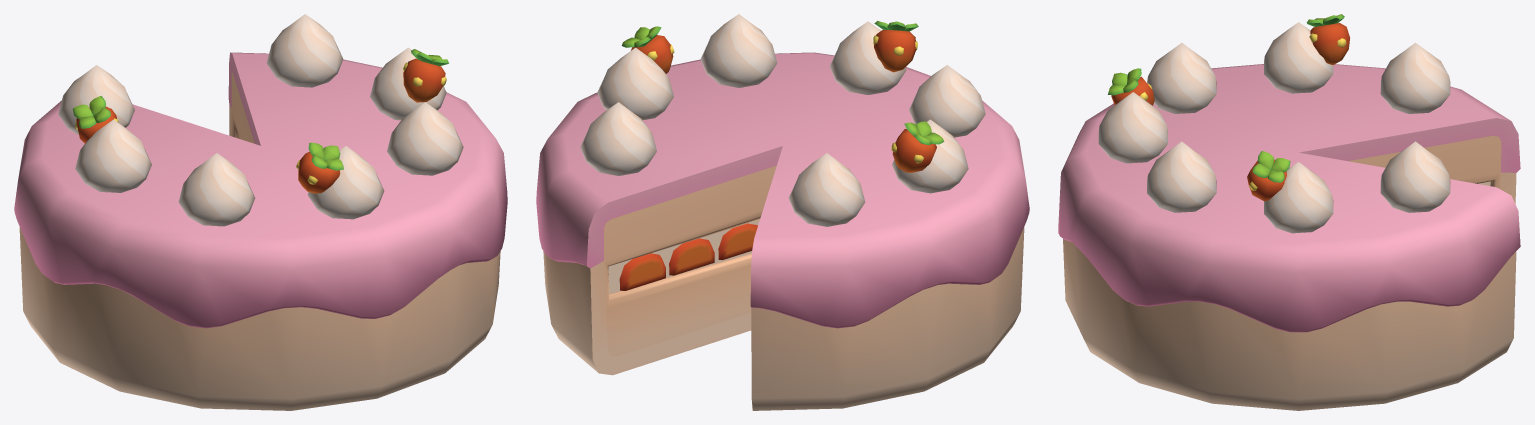
Rendered from cake_strawberry_cut.obj.
3 renders of one model, left to right at view 1: azimuth 30°, elevation 25°; view 2: azimuth 150°, elevation 25°; view 3: azimuth 270°, elevation 25°, orthographic. The views are drawn at different scales.
Visible parts, largest first — view 1: cake_strawberry_cut; view 2: cake_strawberry_cut; view 3: cake_strawberry_cut.
Part boxes in pixels (x1,y1,x2,y2): cake_strawberry_cut: (14,14,507,410); cake_strawberry_cut: (536,14,1029,410); cake_strawberry_cut: (1058,14,1520,410).
Bounding box in the file's own units: 1.22 × 0.6687 × 1.17.
1 material, 1 textured.
